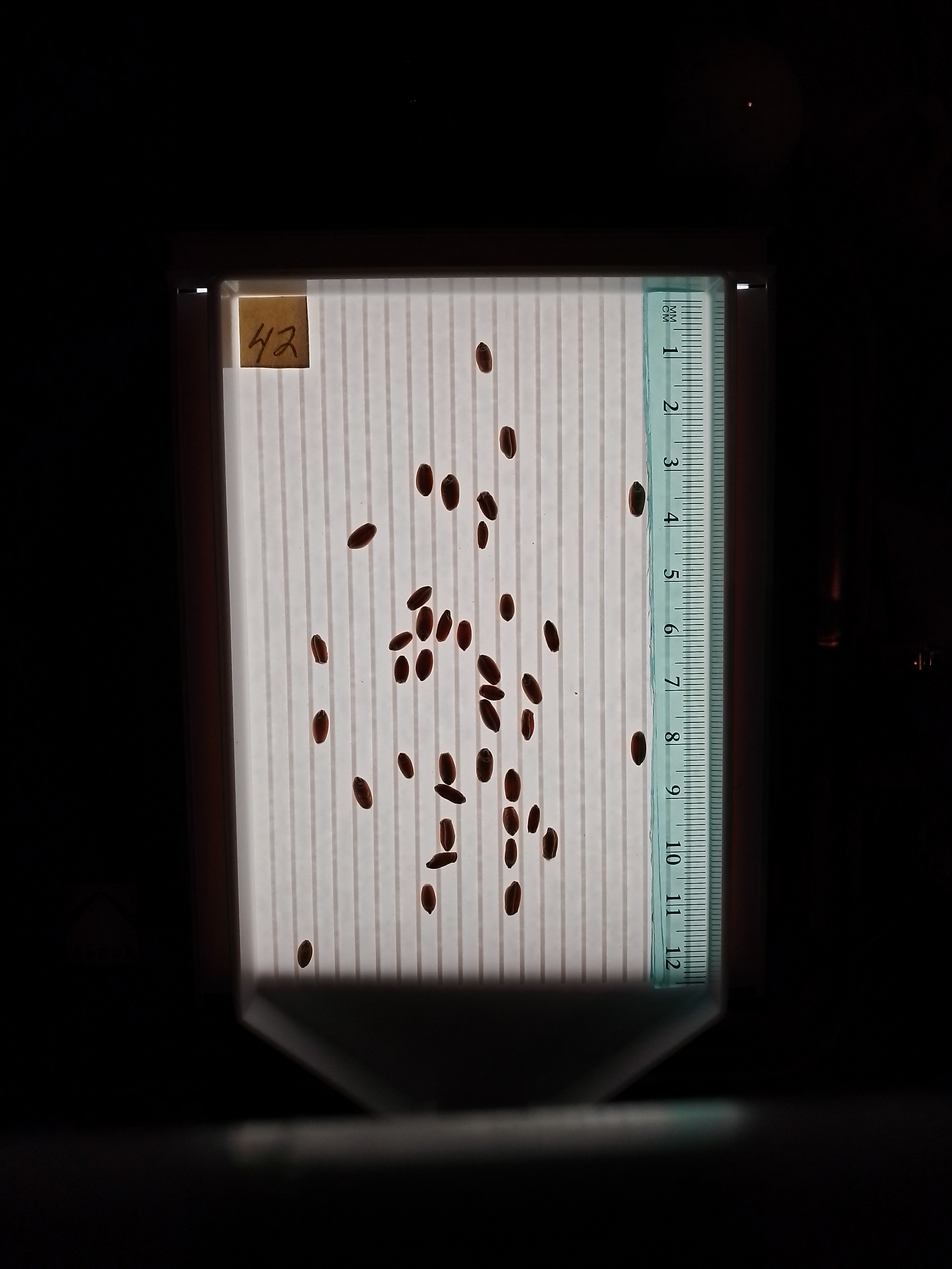seed mask: (348, 523, 376, 549), (440, 475, 460, 510), (479, 699, 500, 732), (478, 655, 501, 685), (353, 777, 372, 809), (522, 674, 542, 704), (312, 710, 329, 744), (435, 785, 465, 804), (476, 749, 493, 782), (478, 492, 498, 520), (499, 427, 517, 458), (408, 586, 431, 610), (629, 482, 645, 516), (505, 882, 521, 915), (439, 753, 456, 784), (416, 608, 432, 640), (427, 852, 457, 869), (417, 465, 433, 496), (476, 343, 492, 373), (439, 819, 454, 851), (416, 650, 432, 680), (543, 829, 558, 860), (505, 770, 520, 801), (631, 733, 646, 764), (544, 621, 559, 652), (436, 612, 452, 641), (311, 636, 327, 664), (389, 632, 412, 651), (421, 884, 436, 913), (457, 621, 472, 650), (503, 807, 519, 834), (297, 940, 312, 968), (397, 754, 414, 778), (394, 657, 409, 683), (499, 595, 514, 621), (521, 710, 534, 739), (505, 839, 518, 867), (480, 686, 504, 701), (527, 806, 540, 833), (477, 523, 489, 548)
